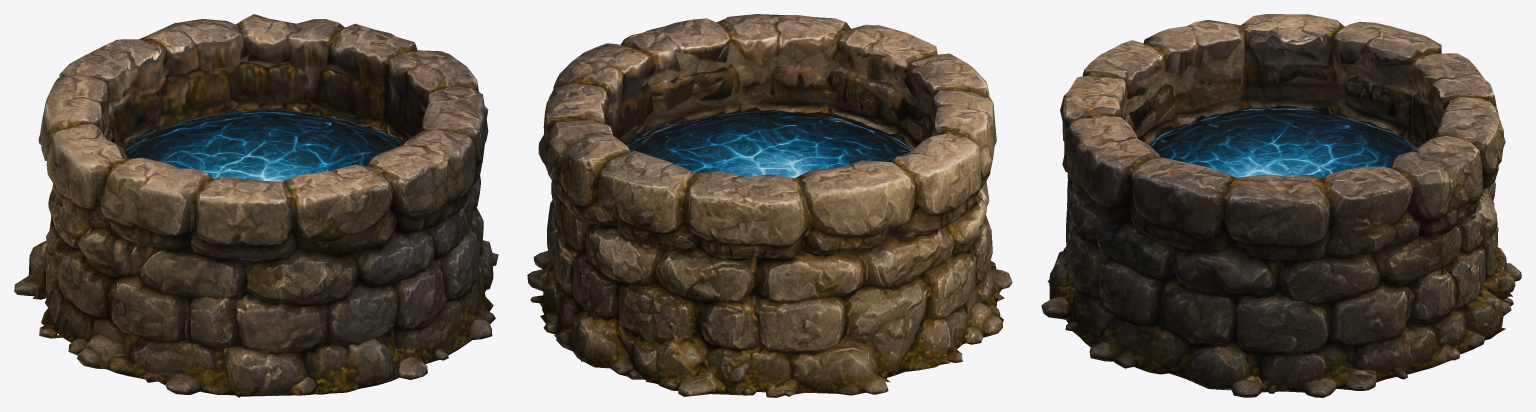
File: Well.fbx
3 renders of one model, left to right at view 1: azimuth 30°, elevation 25°; view 2: azimuth 150°, elevation 25°; view 3: azimuth 270°, elevation 25°, orthographic.
Parts seen in each view (by area): view 1: texture_mapping; view 2: texture_mapping; view 3: texture_mapping.
Part boxes in pixels (bbox=[...]): texture_mapping: bbox=[14, 14, 498, 397]; texture_mapping: bbox=[527, 14, 1012, 397]; texture_mapping: bbox=[1041, 14, 1521, 397].
Bounding box in the file's own units: 100 × 46.42 × 99.5.
1 material, 1 textured.
